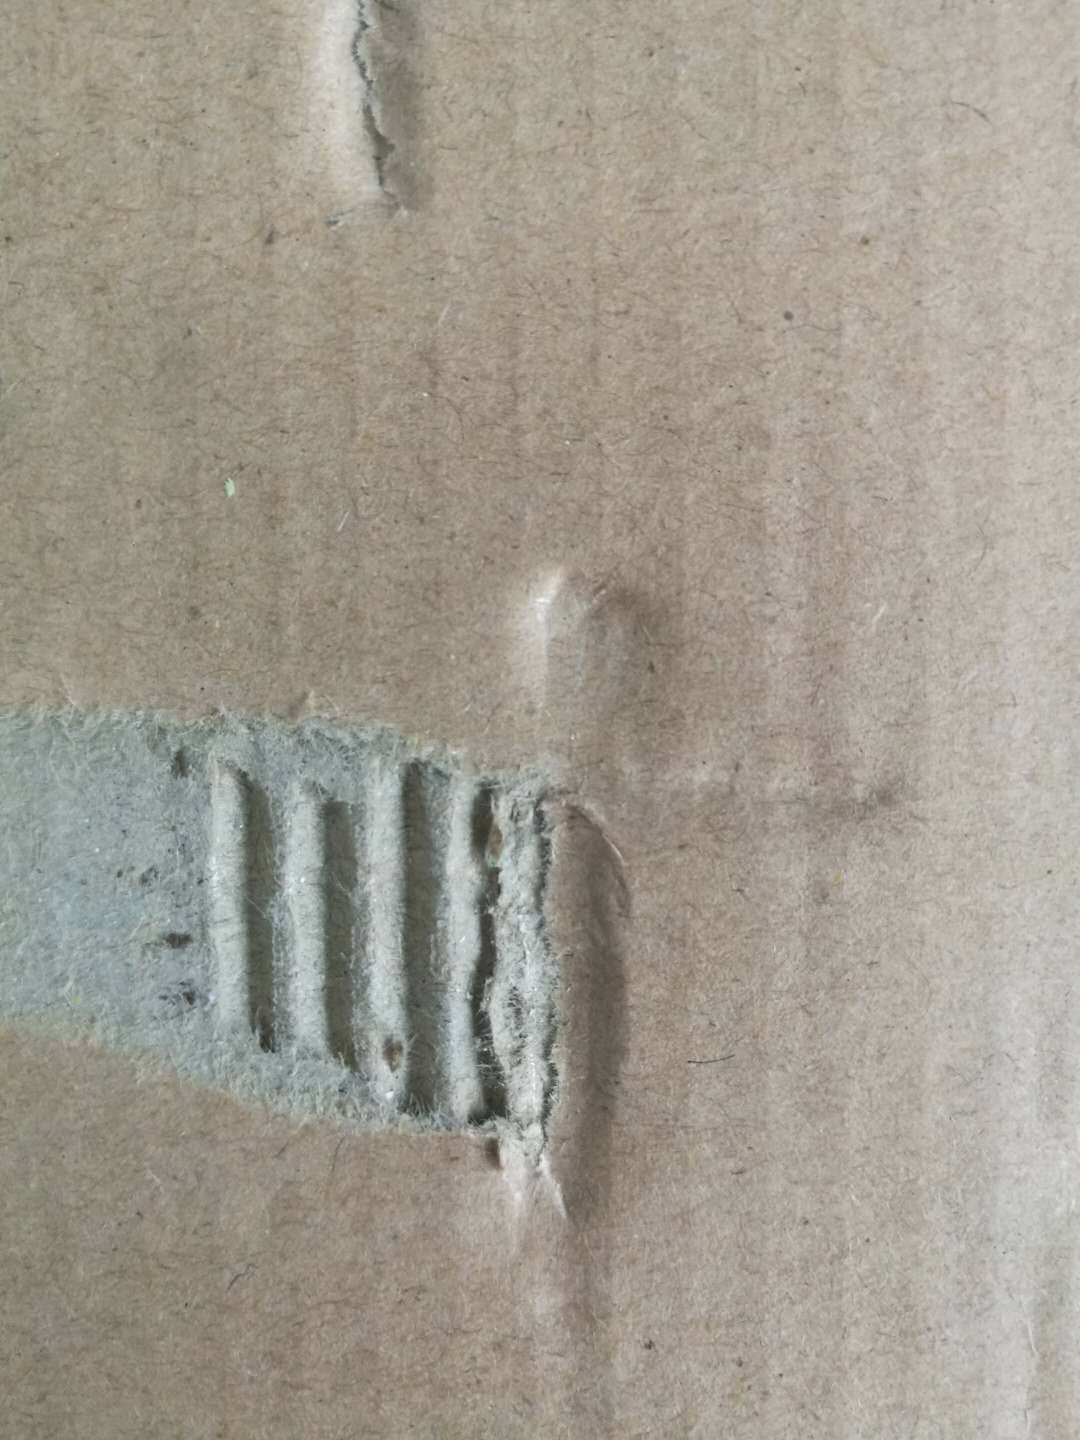defect: (1, 464, 974, 1301), (289, 2, 469, 242)
